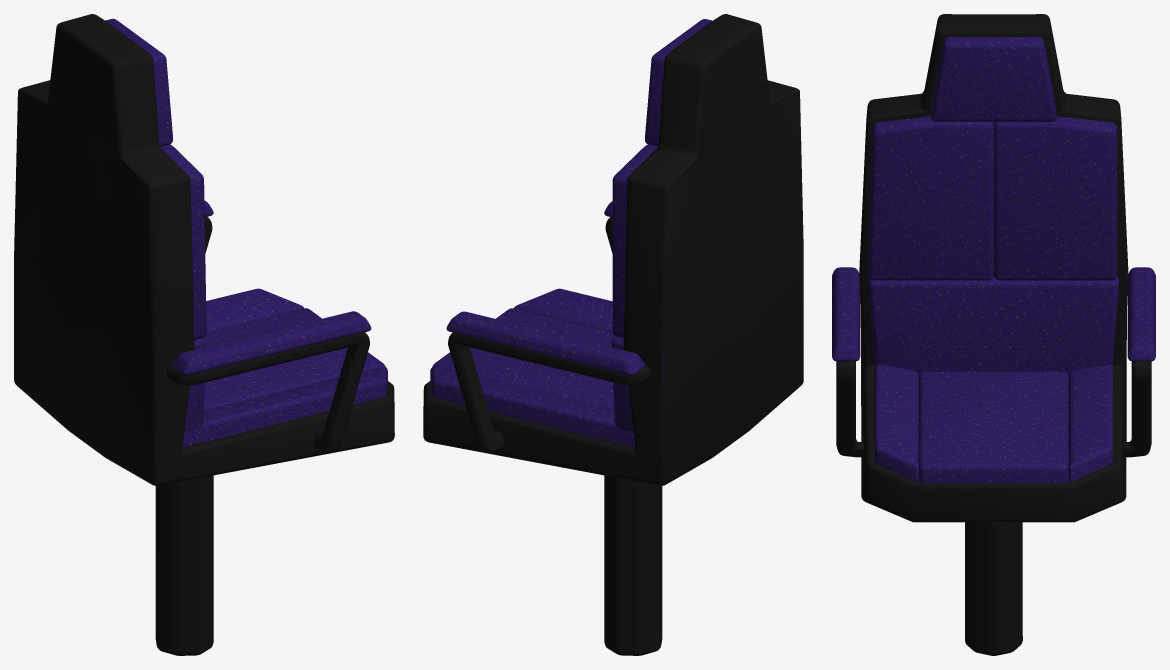
File: Vico_Object_Chair_Judge.fbx
3 renders of one model, left to right at view 1: azimuth 30°, elevation 25°; view 2: azimuth 150°, elevation 25°; view 3: azimuth 270°, elevation 25°, orthographic. The views are drawn at different scales.
Visible parts, largest first — view 1: Char_Judge; view 2: Char_Judge; view 3: Char_Judge.
Part boxes in pixels (<box>): Char_Judge: <box>14,14,394,655</box>; Char_Judge: <box>423,14,803,655</box>; Char_Judge: <box>832,14,1155,655</box>.
Bounding box in the file's own units: 52.11 × 116 × 57.98.
